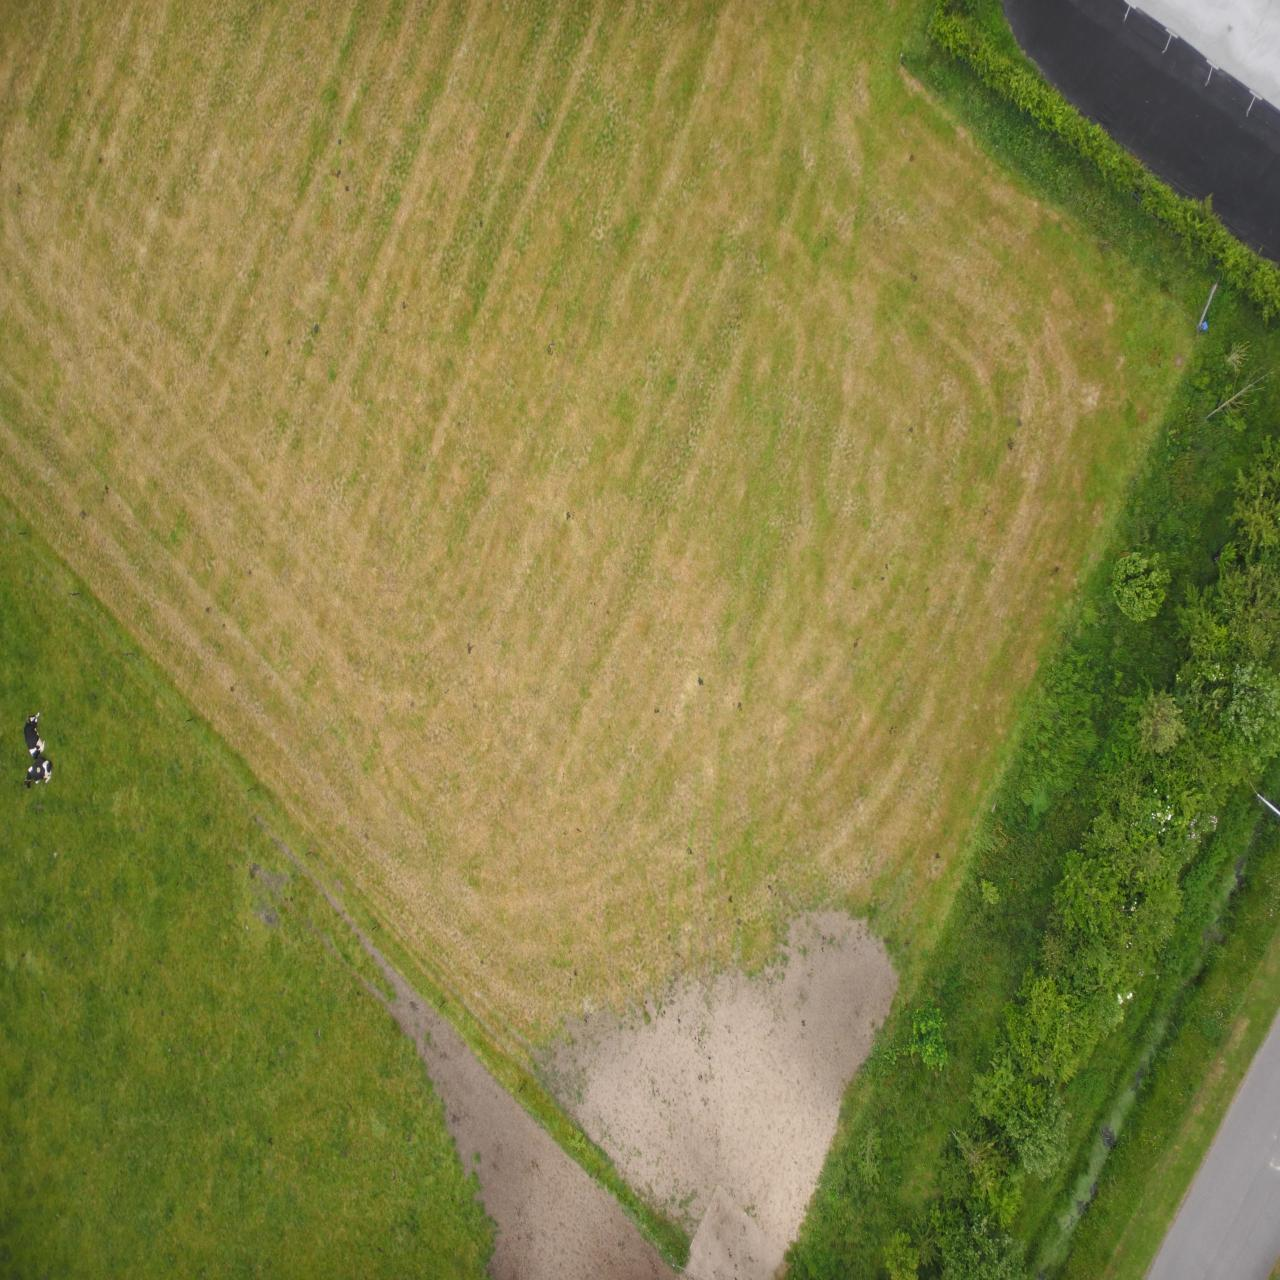cow: (1235, 522, 1257, 567), (1227, 491, 1255, 523)
